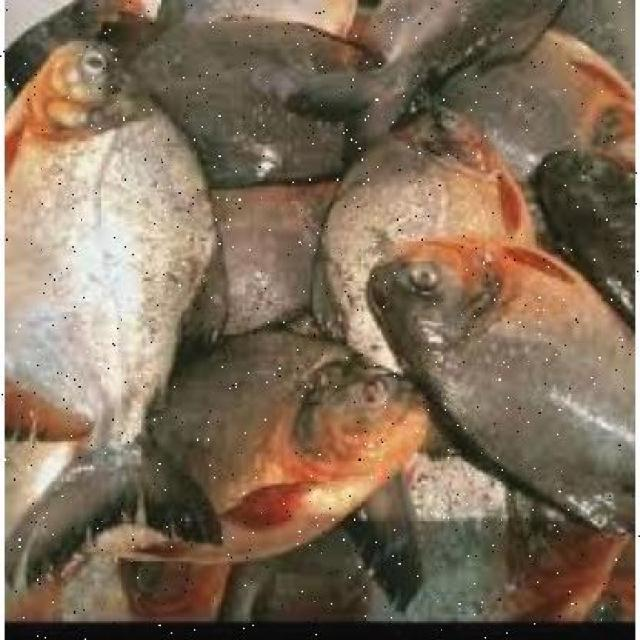ikan-pacu: (2, 33, 198, 441), (364, 232, 632, 516), (136, 328, 424, 564)
